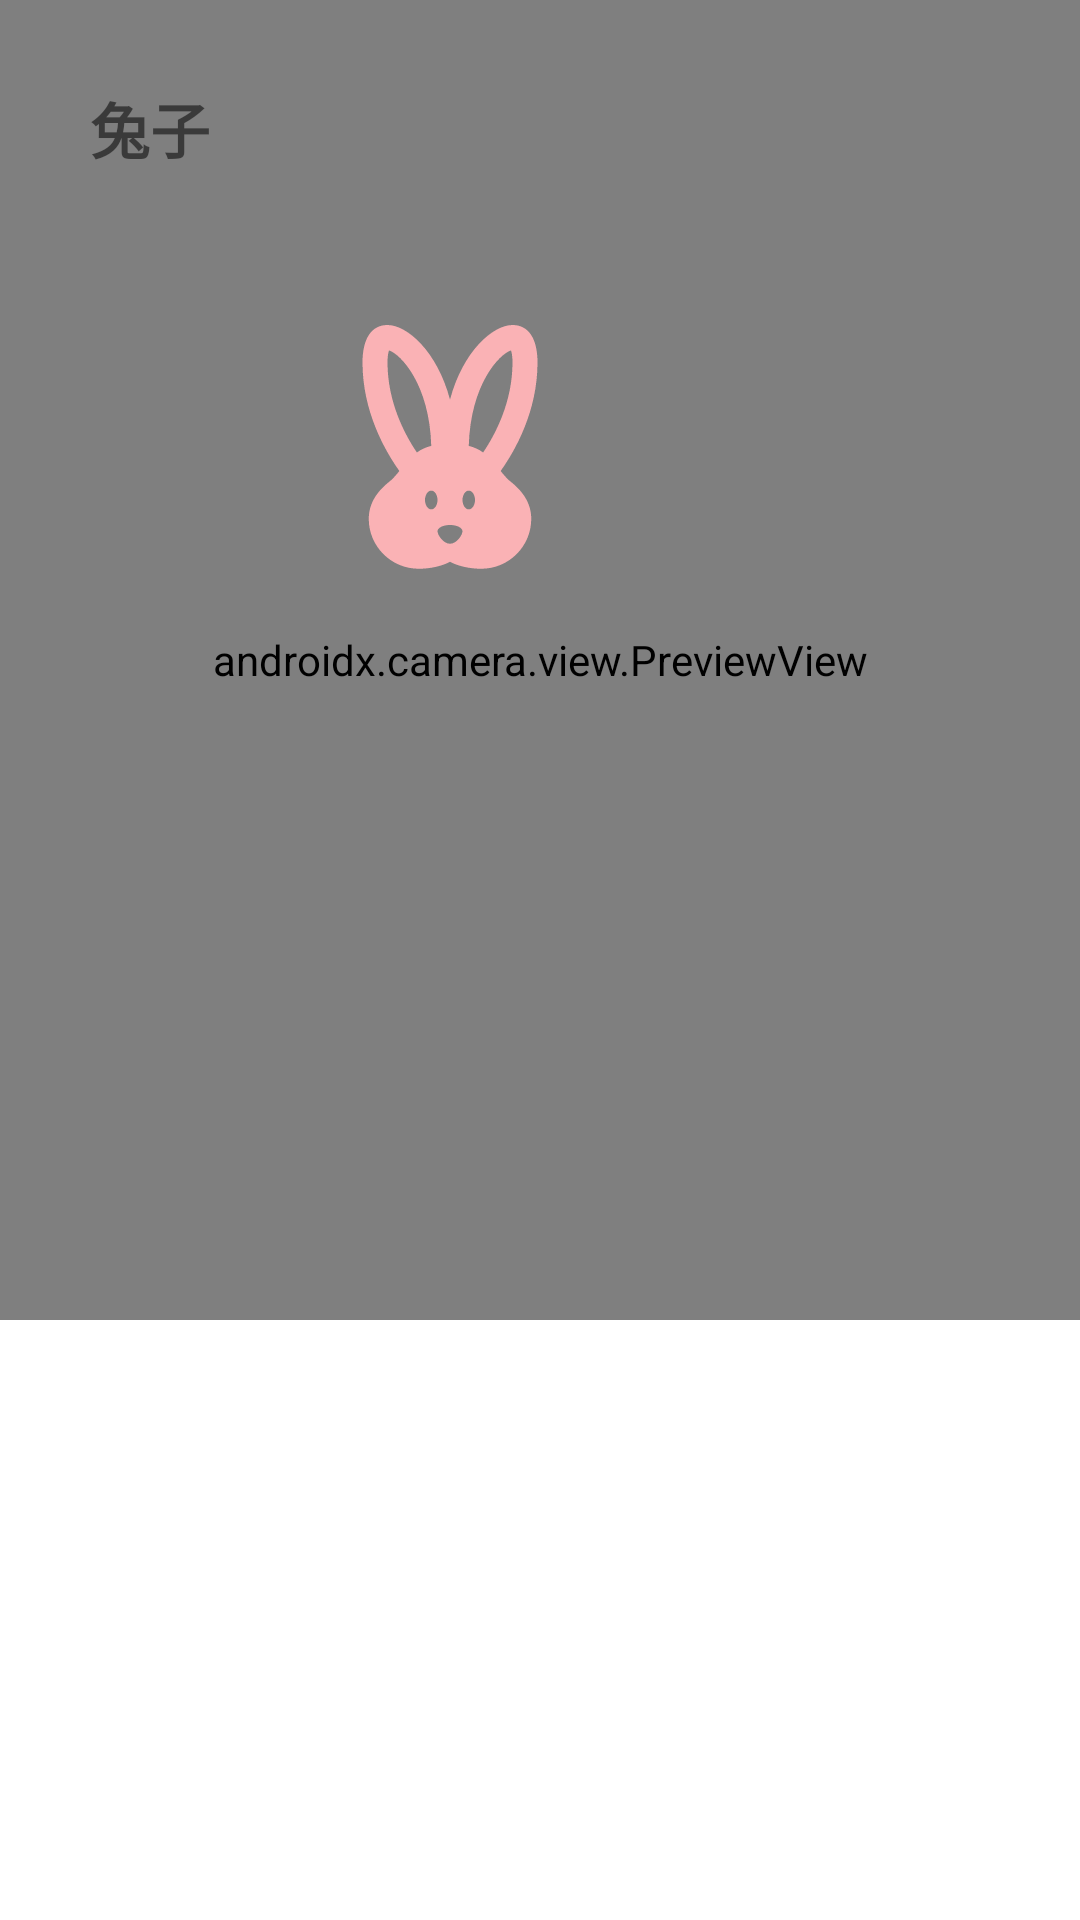

Icon bounding boxes for this 1080*1920 phone screenshot, format (x1, y1, x2, y2):
rabbit: (362, 325, 538, 569)
